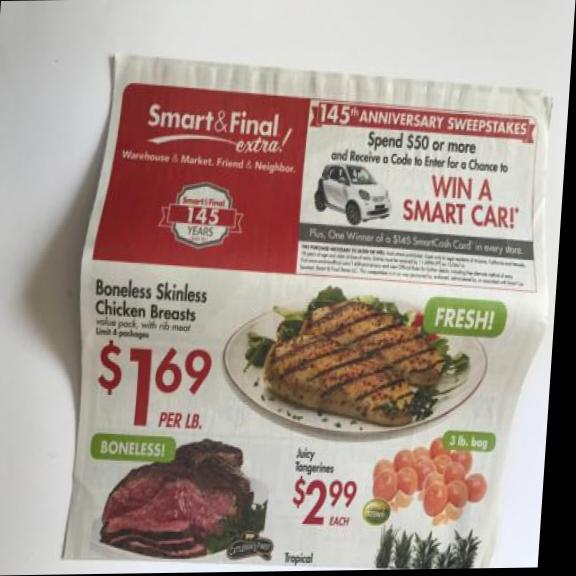Kertas: (54, 36, 573, 575)
